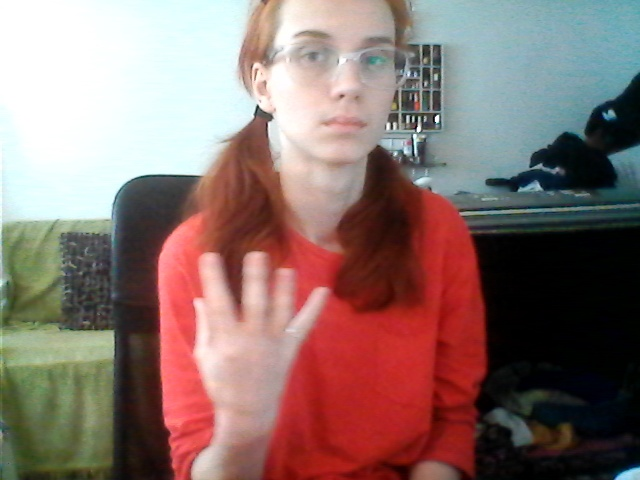kedy: (171, 238, 337, 421)
